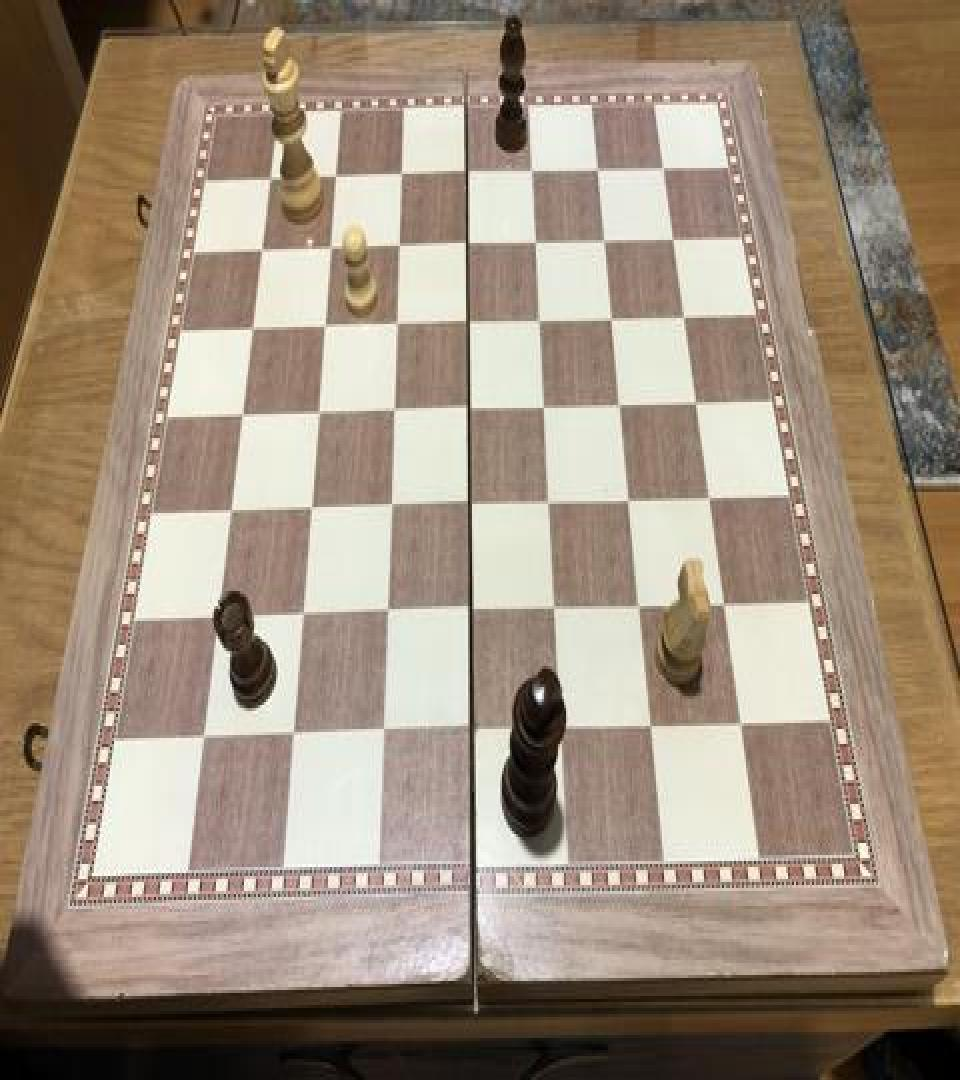xcorner: (377, 595, 401, 632), (463, 712, 487, 749), (283, 718, 307, 755), (655, 152, 679, 188), (589, 153, 613, 189), (524, 154, 548, 190), (458, 156, 482, 192), (392, 158, 416, 194), (326, 159, 350, 195), (260, 160, 284, 196), (665, 222, 689, 258), (596, 224, 620, 260), (528, 225, 552, 261), (459, 226, 483, 262), (390, 228, 414, 264), (321, 230, 345, 266), (252, 231, 276, 267), (675, 300, 699, 336), (604, 302, 628, 338), (532, 303, 556, 339), (460, 304, 484, 340), (387, 306, 411, 342), (315, 309, 339, 345), (242, 310, 266, 346), (687, 386, 711, 422), (612, 387, 636, 423), (536, 388, 560, 424), (460, 392, 484, 428), (384, 393, 408, 429), (308, 394, 332, 430), (232, 398, 256, 434), (701, 480, 725, 516), (621, 482, 645, 518), (541, 484, 565, 520), (461, 486, 485, 522), (381, 489, 405, 525), (301, 490, 325, 526), (220, 494, 244, 530), (716, 585, 740, 621), (631, 588, 655, 624), (547, 591, 571, 627), (462, 592, 486, 628), (292, 598, 316, 634), (207, 600, 231, 636), (732, 705, 756, 741), (643, 708, 667, 744), (553, 710, 577, 746), (373, 716, 397, 752), (192, 722, 216, 758)
